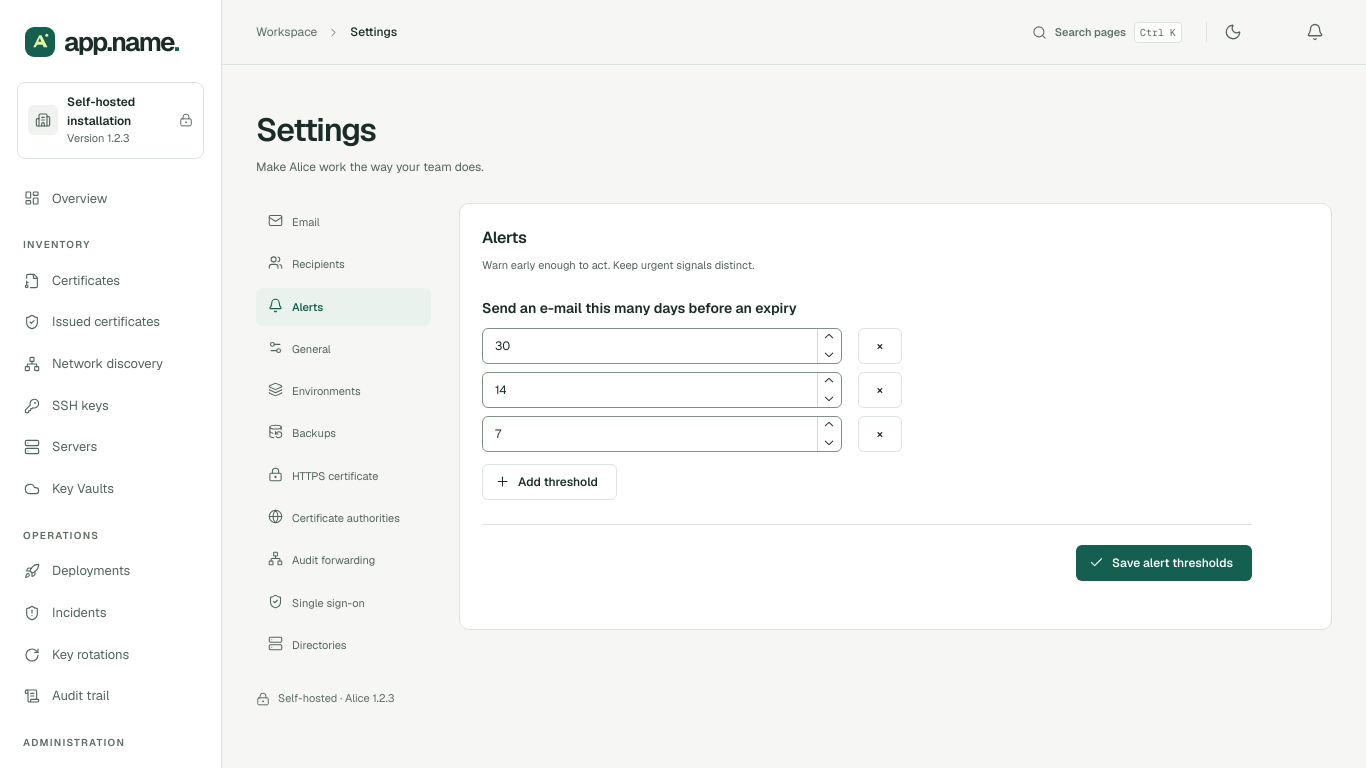
it: AlertSettings › edits the thresholds, one number each, and saves them
Expected: the field named "Threshold 1 (days)" holds "30", [482,328,842,364]
Click the button named "Remove threshold 3" at (880, 434), box [858,416,902,452]
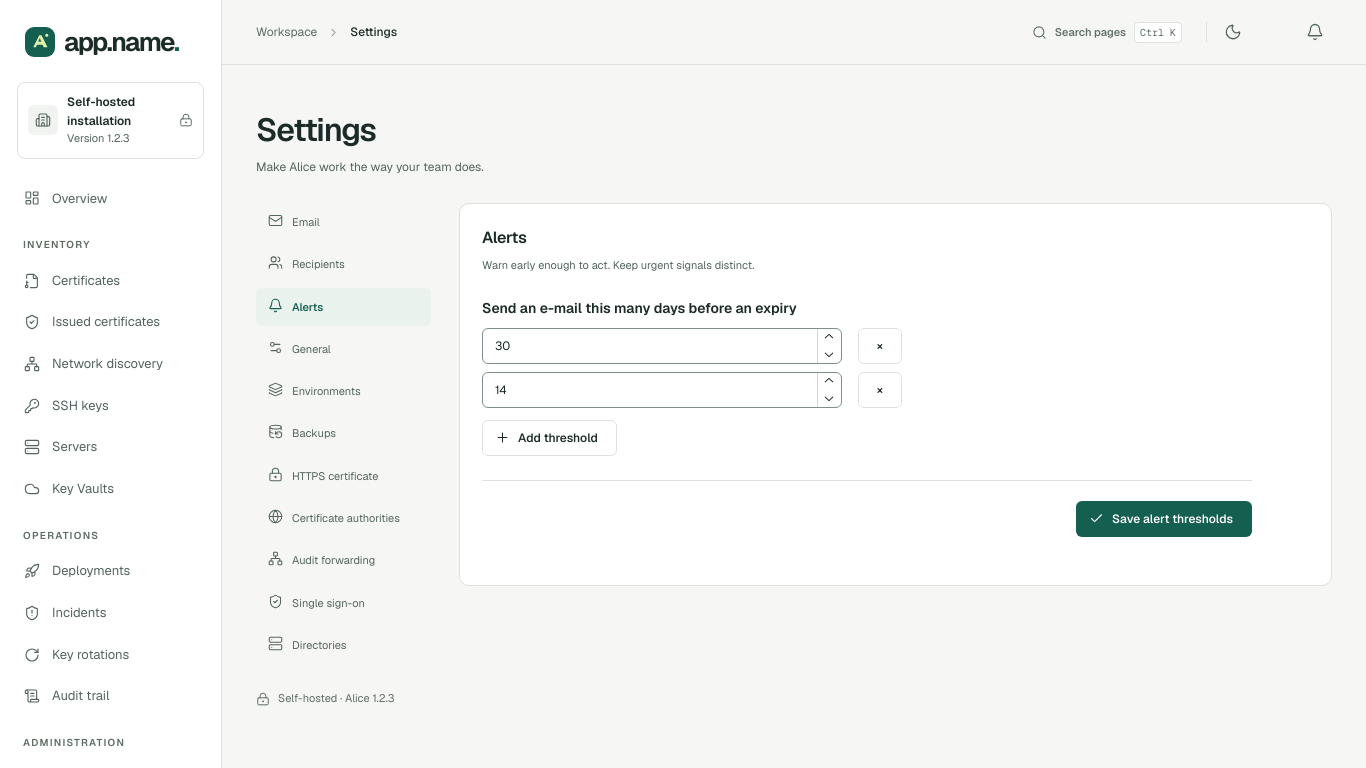
Click the button "Add threshold" at (549, 438), box [482,420,617,456]
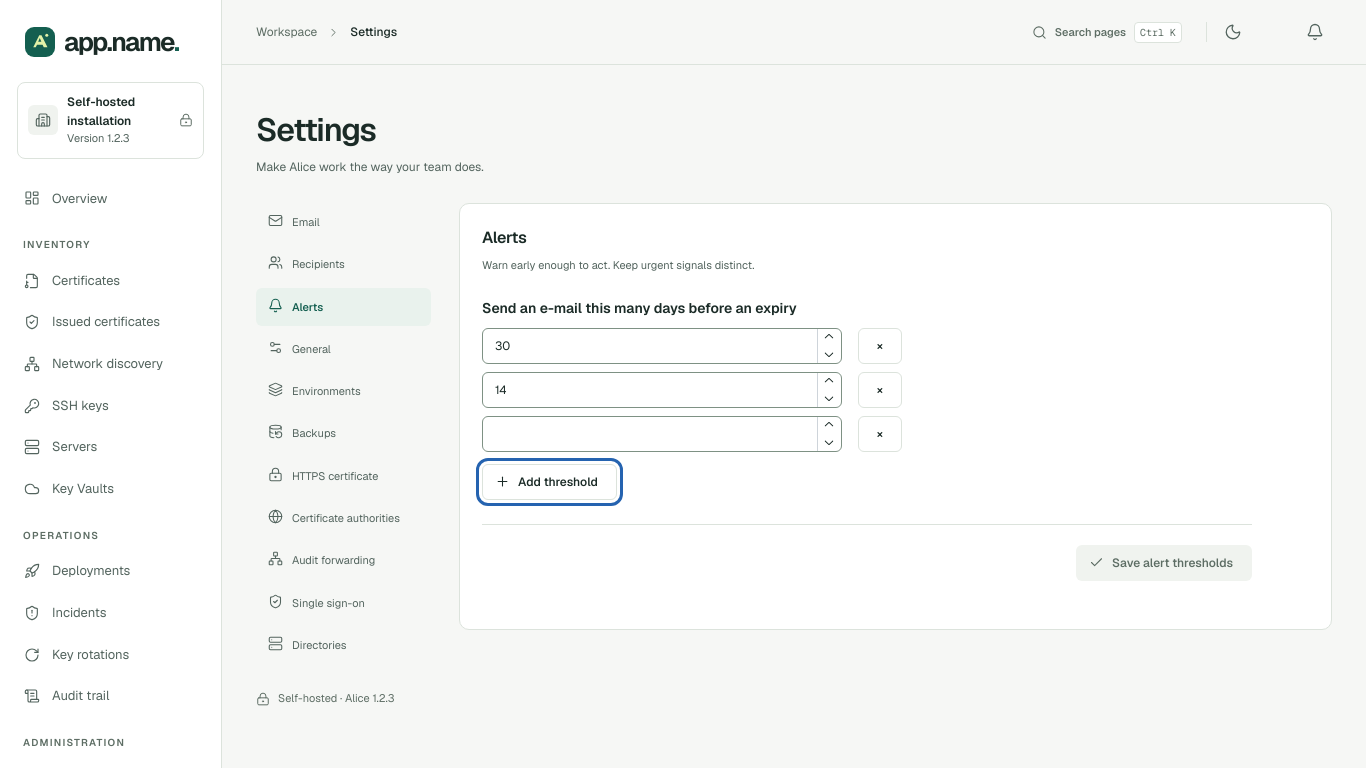
Type "1" into the field named "Threshold 3 (days)" at (662, 434), box [482,416,842,452]
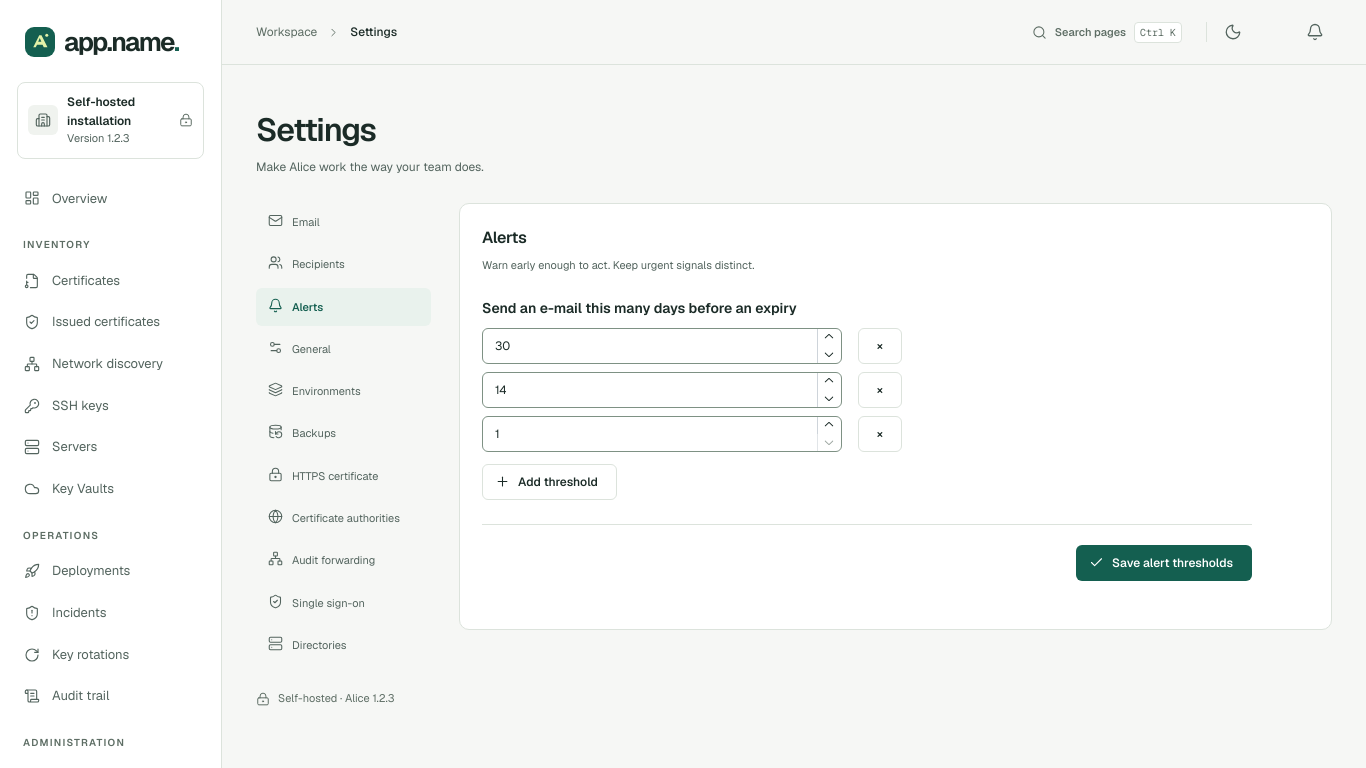
Replace the text in the field named "Threshold 1 (days)" with "60" at (662, 346), box [482,328,842,364]
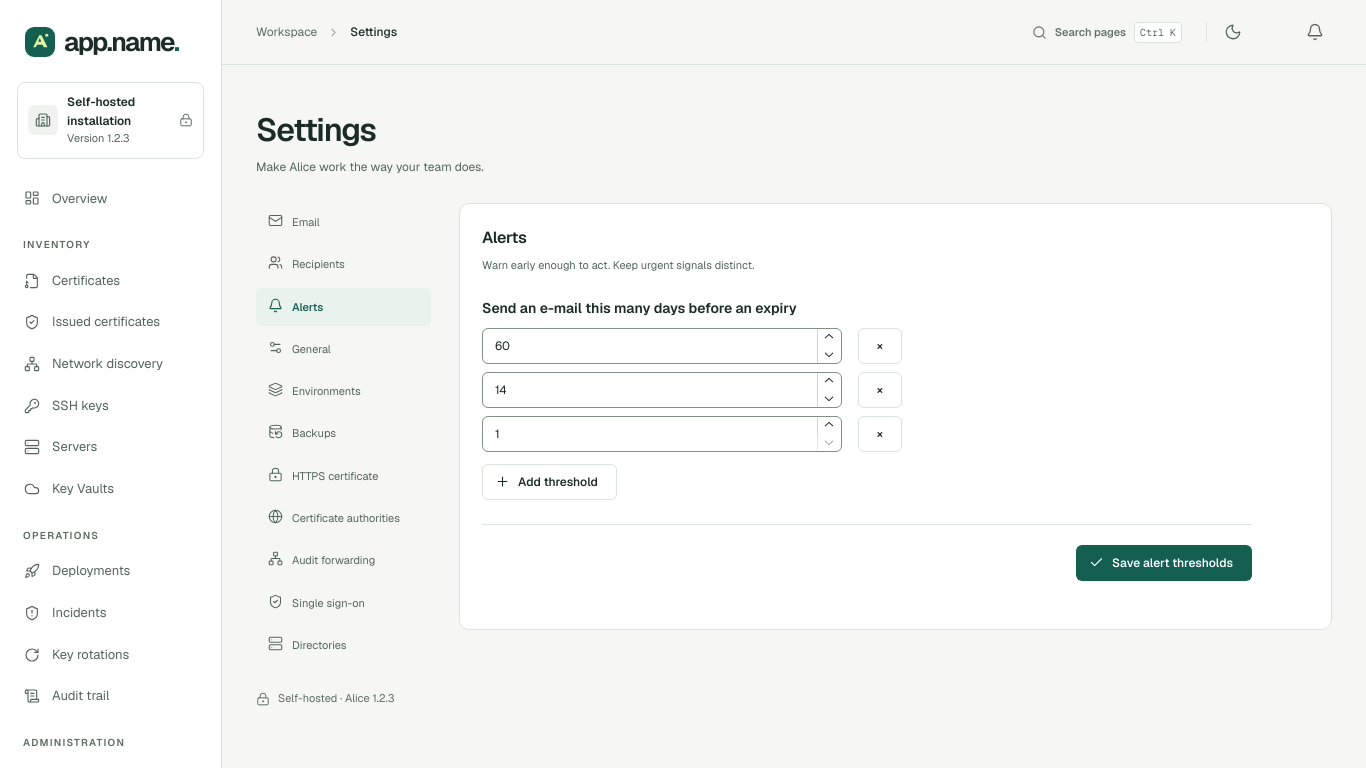
Click the button "Save alert thresholds" at (1164, 563), box [1076,545,1252,581]
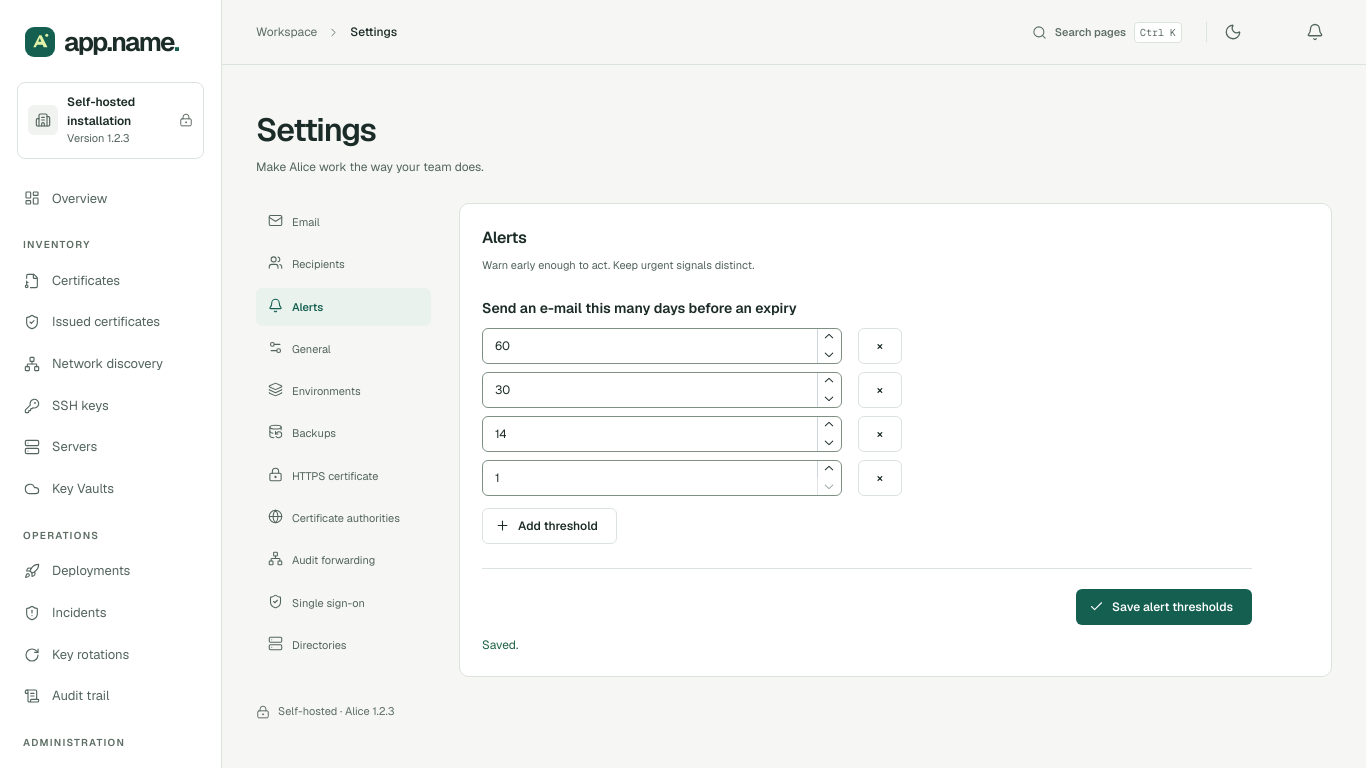
Expected: the text "Saved." is shown, [482,637,518,653]
